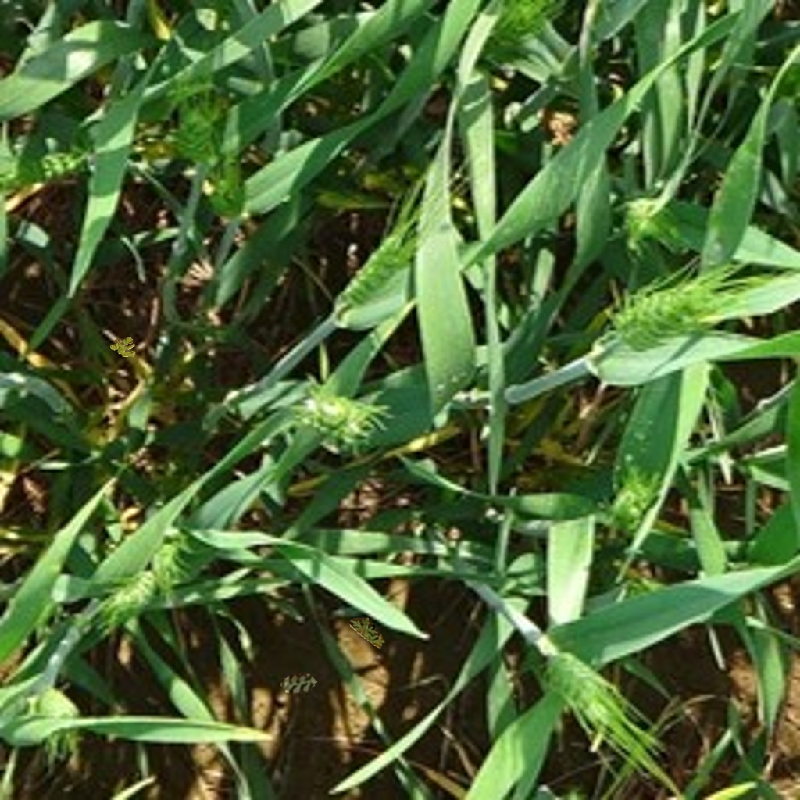spikelet: (334, 223, 417, 315), (548, 645, 626, 742), (605, 278, 706, 351), (108, 529, 187, 618), (188, 118, 251, 215), (1, 149, 100, 194), (299, 391, 376, 447), (487, 1, 556, 56), (611, 467, 663, 529)
weed: (344, 612, 391, 650), (278, 663, 319, 704), (110, 337, 136, 357)
